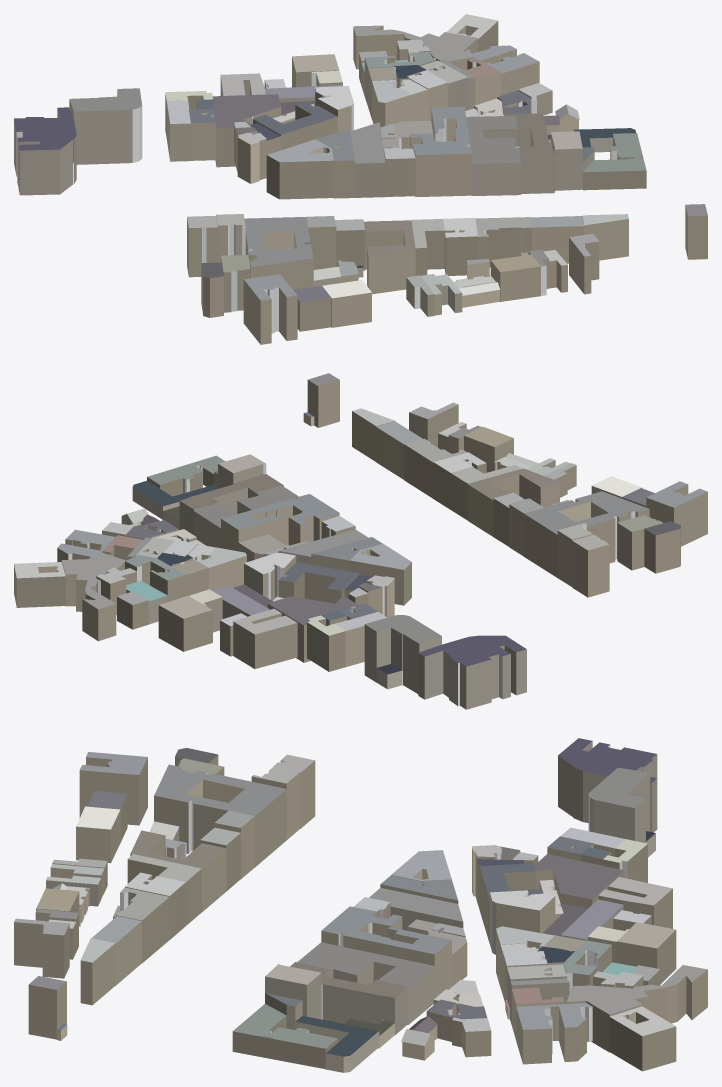
The picture shows the model from 3 angles, top to bottom: view 1: azimuth 30°, elevation 25°; view 2: azimuth 150°, elevation 25°; view 3: azimuth 270°, elevation 25°; orthographic projection. The views are drawn at different scales.
Visible parts, largest first — view 1: tuile; view 2: tuile; view 3: tuile.
Part boxes in pixels (x1,y1,x2,y2): tuile: [14, 14, 707, 344]; tuile: [14, 373, 707, 709]; tuile: [14, 738, 707, 1072].
Size of the model in its own units: 277 by 31.43 by 285.
